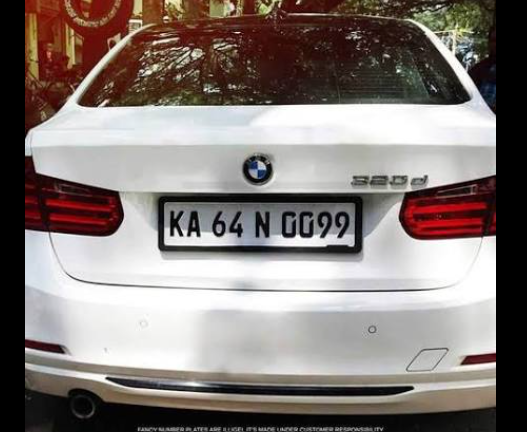licence: (158, 199, 361, 253)
